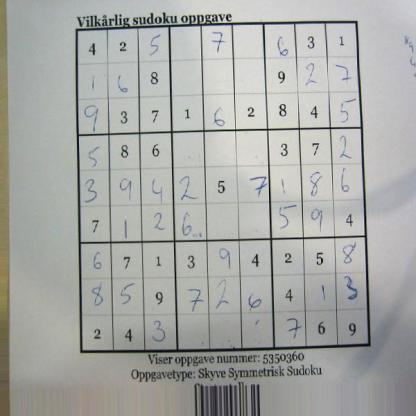sudoku: (73, 18, 373, 354)
